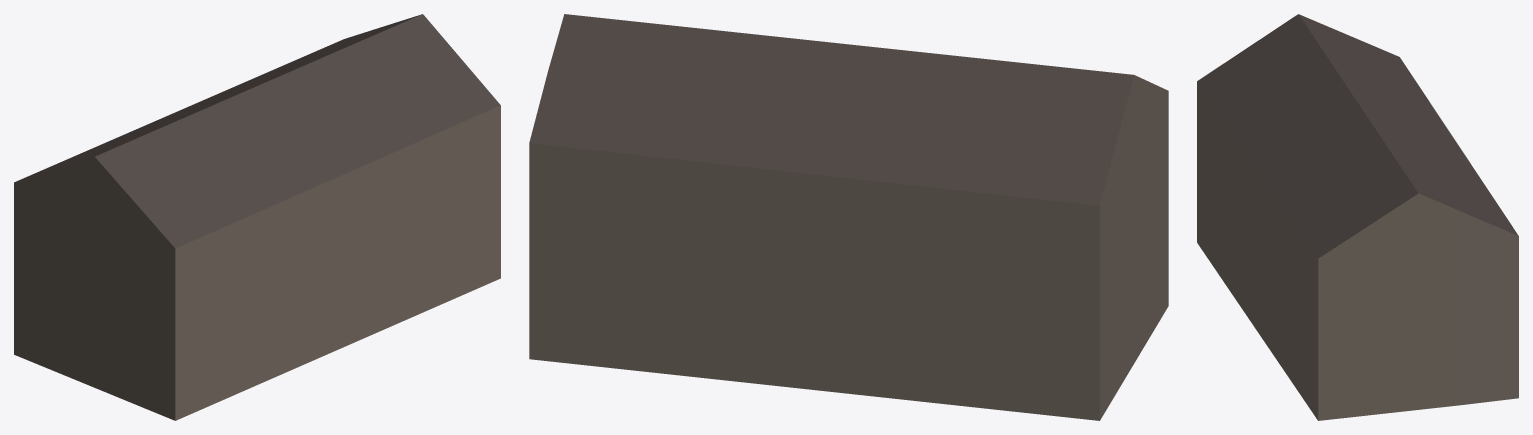
The picture shows the model from 3 angles, left to right: view 1: azimuth 30°, elevation 25°; view 2: azimuth 150°, elevation 25°; view 3: azimuth 270°, elevation 25°; orthographic projection. The views are drawn at different scales.
Visible parts, largest first — view 1: HP-w756797937; view 2: HP-w756797937; view 3: HP-w756797937.
Boxes of the visible parts, box(x1,y1,x2,y2) form: HP-w756797937: box(14, 14, 500, 420); HP-w756797937: box(529, 14, 1168, 420); HP-w756797937: box(1197, 14, 1518, 420).
Size of the model in its own units: 16.15 by 8.05 by 10.84.
